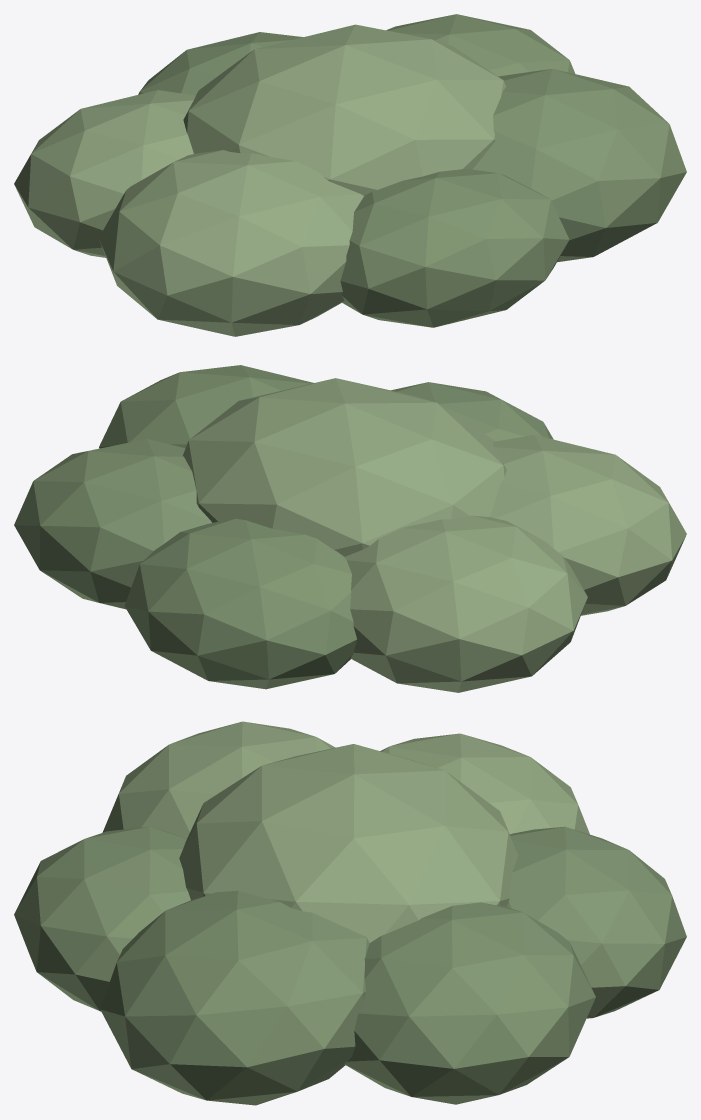
Rendered from bush_low.glb.
3 renders of one model, top to bottom at view 1: azimuth 30°, elevation 25°; view 2: azimuth 150°, elevation 25°; view 3: azimuth 270°, elevation 25°, orthographic. The views are drawn at different scales.
Visible parts, largest first — view 1: leaf_clump_01, leaf_clump_03, leaf_clump_06, leaf_clump_02, leaf_clump_05, leaf_clump_04, leaf_clump_07; view 2: leaf_clump_01, leaf_clump_05, leaf_clump_07, leaf_clump_03, leaf_clump_04, leaf_clump_02, leaf_clump_06; view 3: leaf_clump_01, leaf_clump_02, leaf_clump_04, leaf_clump_07, leaf_clump_06, leaf_clump_03, leaf_clump_05.
Part boxes in pixels (bbox=[...]): leaf_clump_01: bbox=[183, 24, 506, 195]; leaf_clump_03: bbox=[98, 150, 363, 336]; leaf_clump_06: bbox=[340, 168, 569, 327]; leaf_clump_02: bbox=[473, 68, 686, 262]; leaf_clump_05: bbox=[14, 90, 195, 257]; leaf_clump_04: bbox=[386, 14, 575, 76]; leaf_clump_07: bbox=[138, 32, 303, 95]; leaf_clump_01: bbox=[183, 378, 506, 556]; leaf_clump_05: bbox=[345, 515, 587, 692]; leaf_clump_07: bbox=[124, 518, 357, 689]; leaf_clump_03: bbox=[490, 435, 686, 615]; leaf_clump_04: bbox=[14, 439, 211, 609]; leaf_clump_02: bbox=[99, 365, 313, 448]; leaf_clump_06: bbox=[391, 382, 553, 441]; leaf_clump_01: bbox=[179, 744, 518, 942]; leaf_clump_02: bbox=[100, 890, 369, 1105]; leaf_clump_04: bbox=[344, 902, 595, 1104]; leaf_clump_07: bbox=[507, 826, 686, 1018]; leaf_clump_06: bbox=[14, 826, 190, 1011]; leaf_clump_03: bbox=[102, 721, 335, 838]; leaf_clump_05: bbox=[380, 733, 589, 834].
Bounding box in the file's own units: 2.46 × 0.8397 × 2.28.
